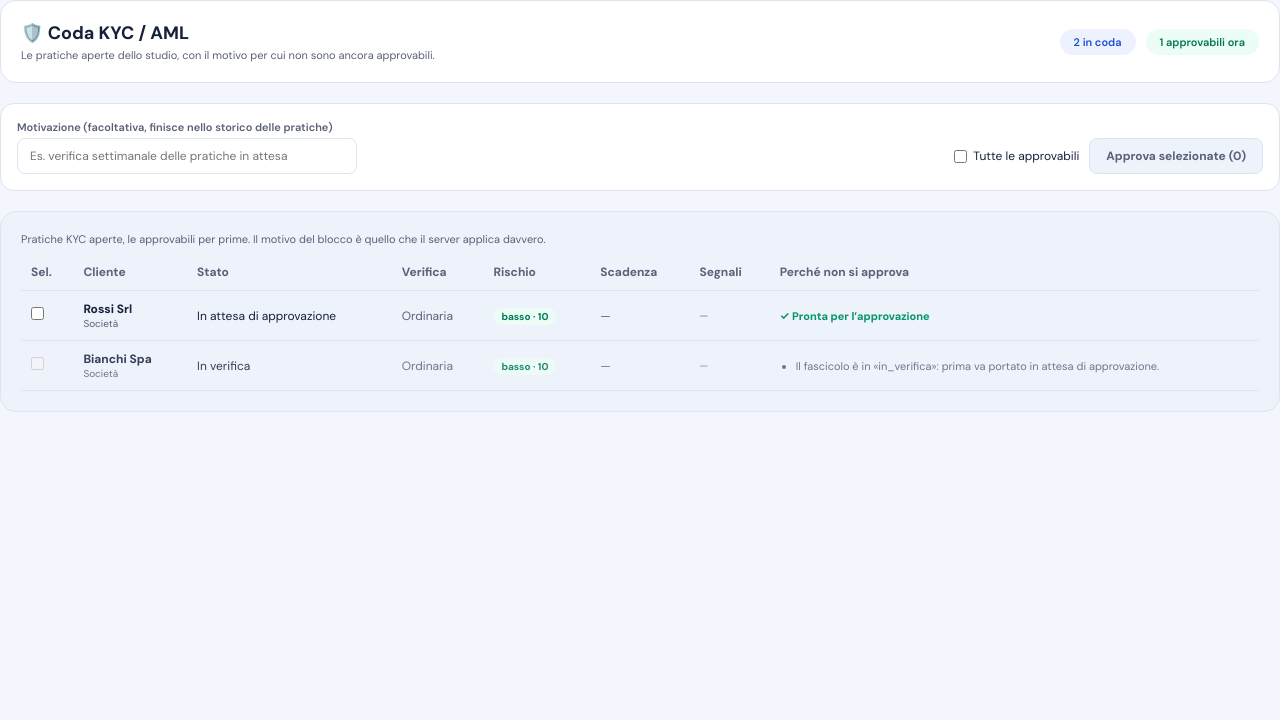
Scenario: CompliancePage — l’approvazione massiva › i rifiuti restano a schermo con il loro motivo
Click the checkbox named "Seleziona tutte le pratiche approvabili". click: coordinates (961, 156)
box: [954,150,967,162]
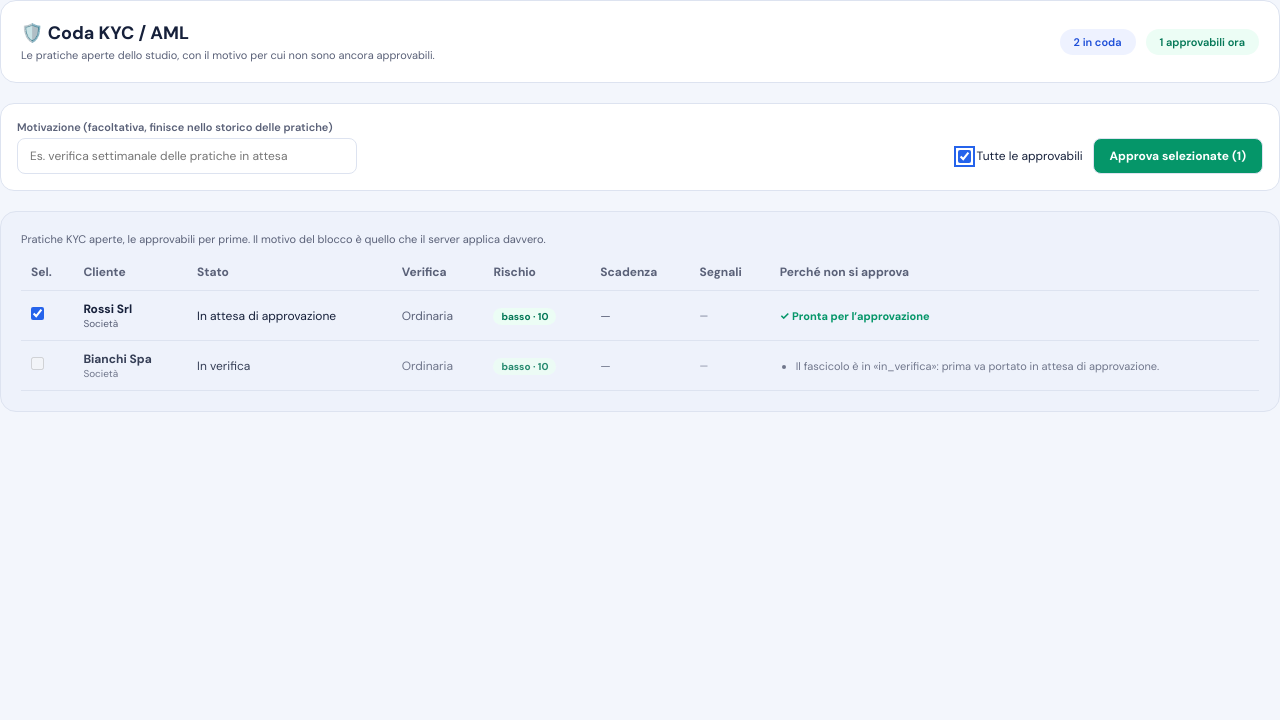
Click the button "Approva selezionate (1)". click: coordinates (1178, 156)
box: [1093,138,1263,174]
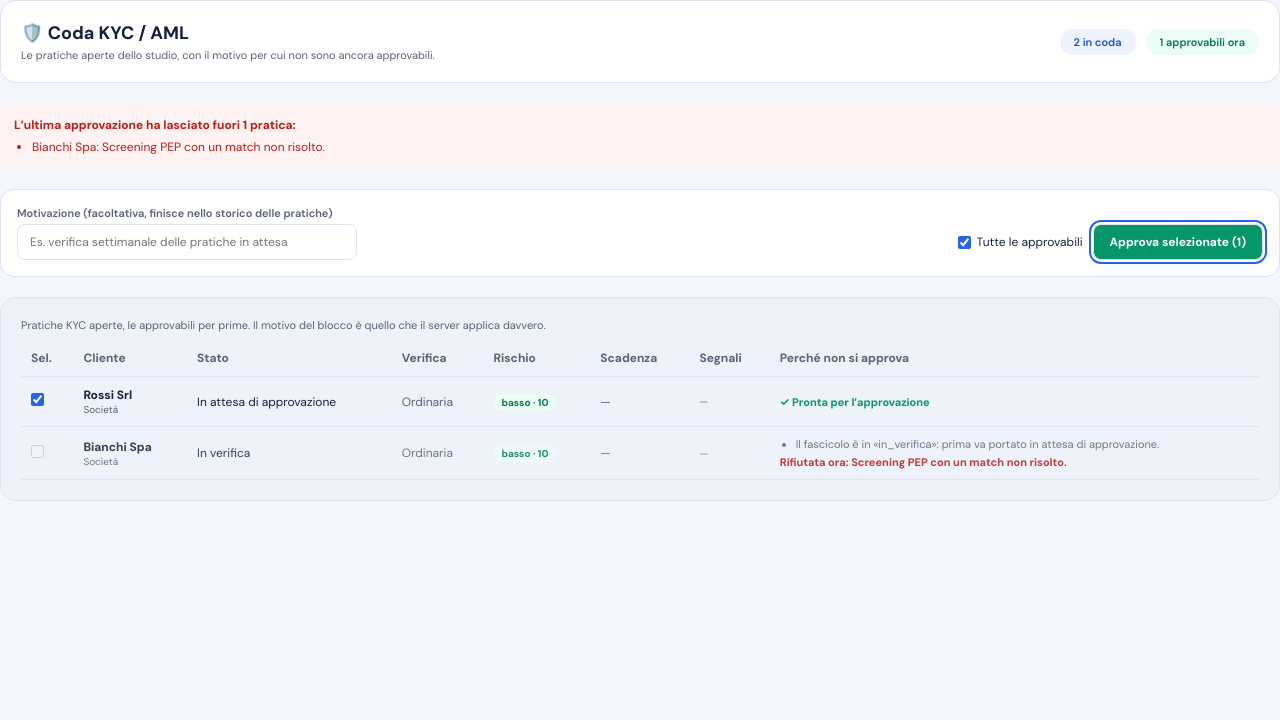
Check: the text "L’ultima approvazione ha lasciato fuori 1 pratica:" is shown, box [14,117,296,133]
Check: the list item "Bianchi Spa: Screening PEP con un match non risolto." is shown, box [32,139,325,155]
